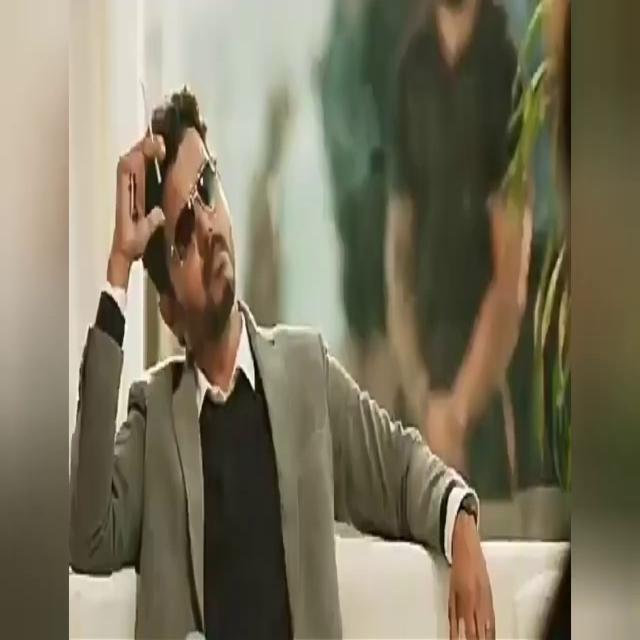smoking: (130, 98, 167, 158)
